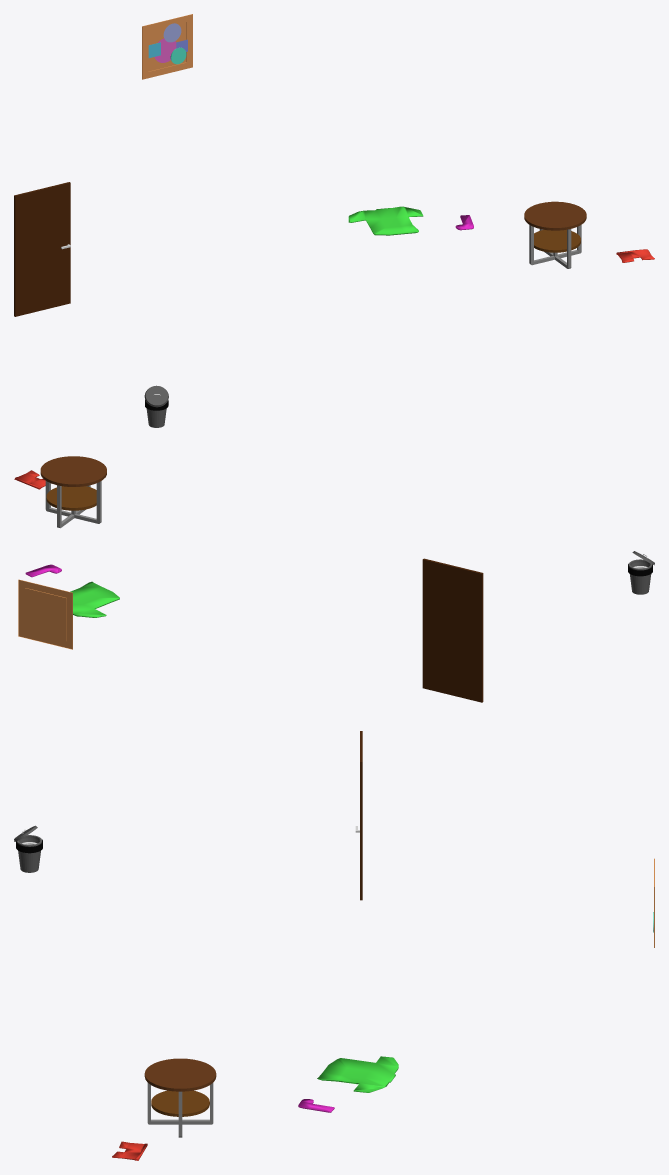
File: ClothesTableCanPainting.fbx
3 renders of one model, top to bottom at view 1: azimuth 30°, elevation 25°; view 2: azimuth 150°, elevation 25°; view 3: azimuth 270°, elevation 25°, orthographic. The views are drawn at different scales.
Parts seen in each view (by area): view 1: Cube.026, Circle.002, Circle.001, Plane.001, Cube.029; view 2: Cube.026, Circle.002, Circle.001, Plane.001, Cube.029; view 3: Circle.002, Plane.001, Cube.029.
Boxes of the visible parts, x1=… form: Cube.026: x1=14, y1=182, x2=70, y2=316; Circle.002: x1=524, y1=201, x2=586, y2=268; Circle.001: x1=142, y1=14, x2=192, y2=79; Plane.001: x1=348, y1=206, x2=423, y2=235; Cube.029: x1=144, y1=385, x2=168, y2=427; Cube.026: x1=422, y1=558, x2=483, y2=702; Circle.002: x1=40, y1=456, x2=106, y2=528; Circle.001: x1=18, y1=579, x2=72, y2=649; Plane.001: x1=70, y1=581, x2=119, y2=617; Cube.029: x1=628, y1=551, x2=654, y2=594; Circle.002: x1=144, y1=1058, x2=216, y2=1137; Plane.001: x1=317, y1=1056, x2=398, y2=1092; Cube.029: x1=14, y1=825, x2=42, y2=872.
Bounding box in the file's own units: 2970 × 697 × 2616.
